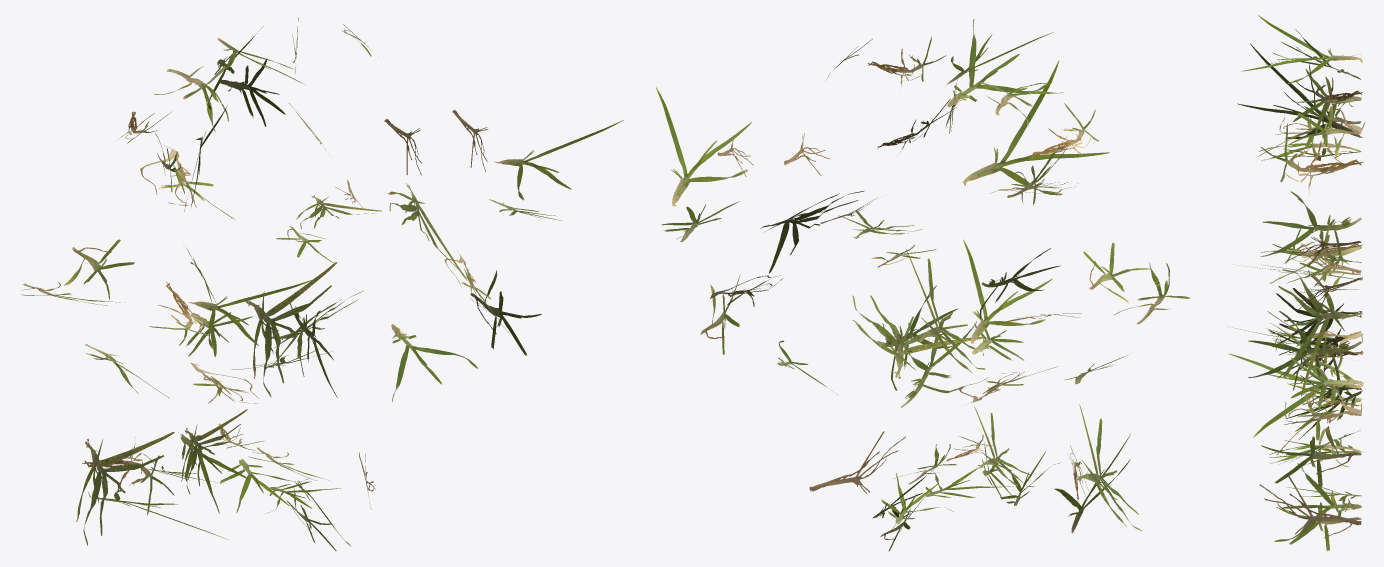
The model's file is Grass_01_Var2_LOD1.fbx.
The picture shows the model from 3 angles, left to right: view 1: azimuth 30°, elevation 25°; view 2: azimuth 150°, elevation 25°; view 3: azimuth 270°, elevation 25°; orthographic projection. The views are drawn at different scales.
Parts seen in each view (by area): view 1: Var2_LOD1; view 2: Var2_LOD1; view 3: Var2_LOD1.
Part boxes in pixels (box(x1,y1,x2,y2)): Var2_LOD1: box(21, 18, 623, 550); Var2_LOD1: box(655, 19, 1190, 551); Var2_LOD1: box(1228, 15, 1366, 551).
Size of the model in its own units: 86.29 by 78.81 by 21.21.
